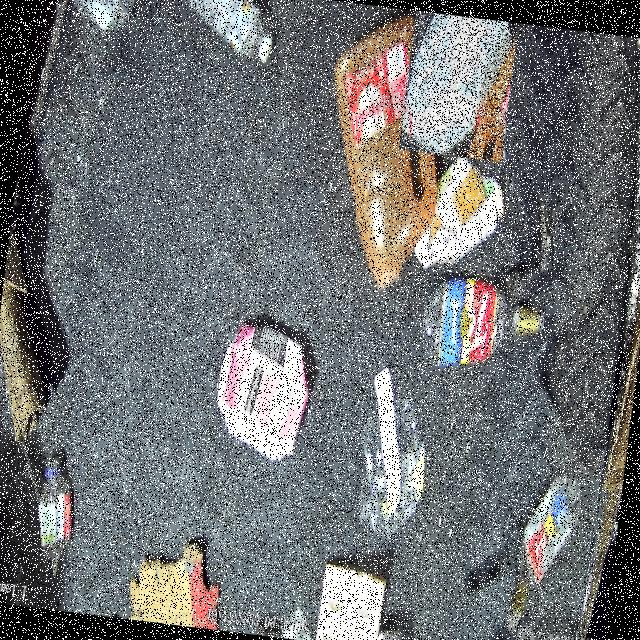milk-jug: (398, 9, 516, 161)
